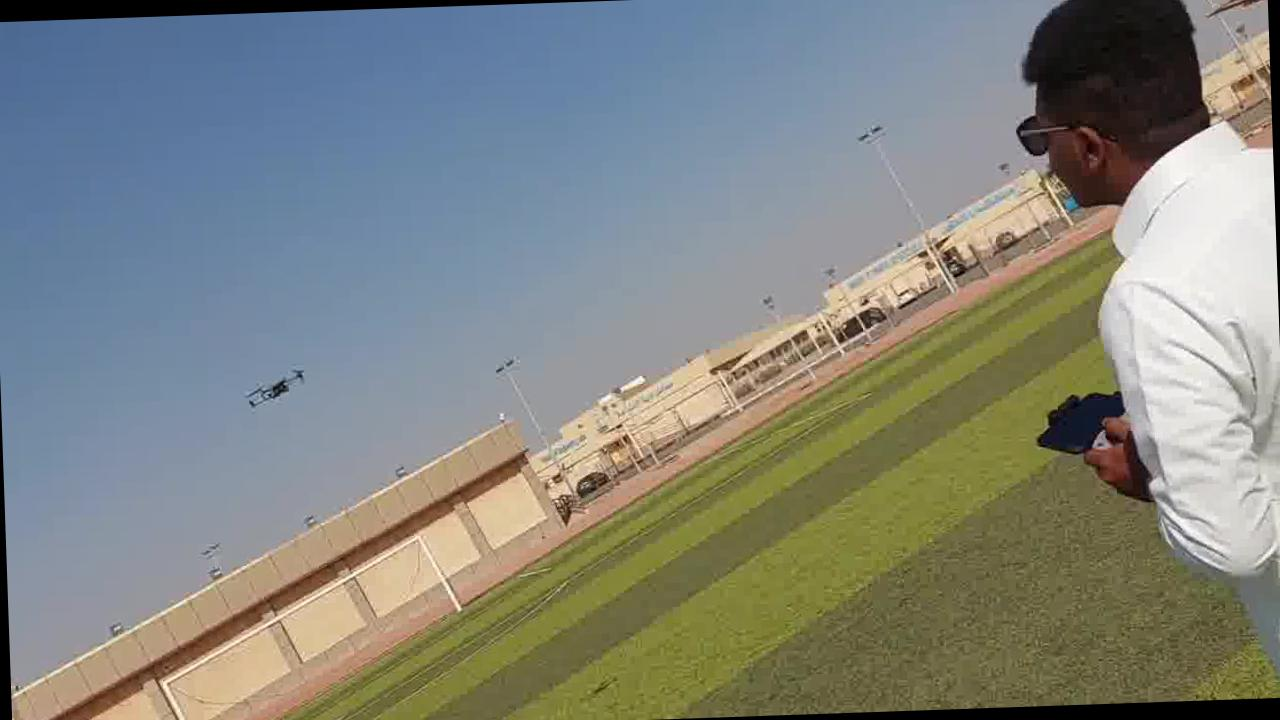drone: (247, 340, 315, 420)
